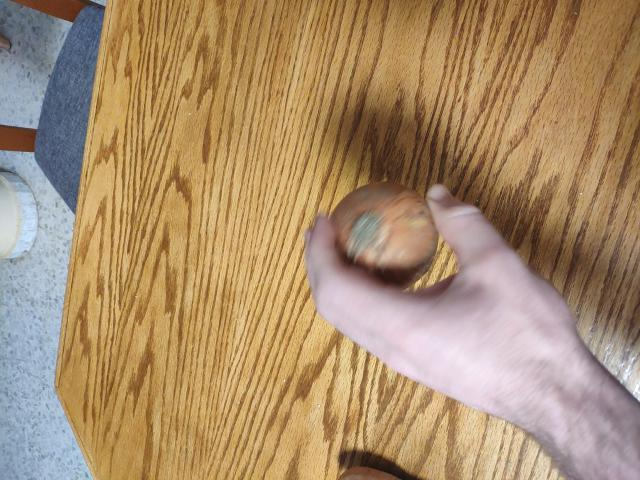onion: (326, 179, 440, 281)
